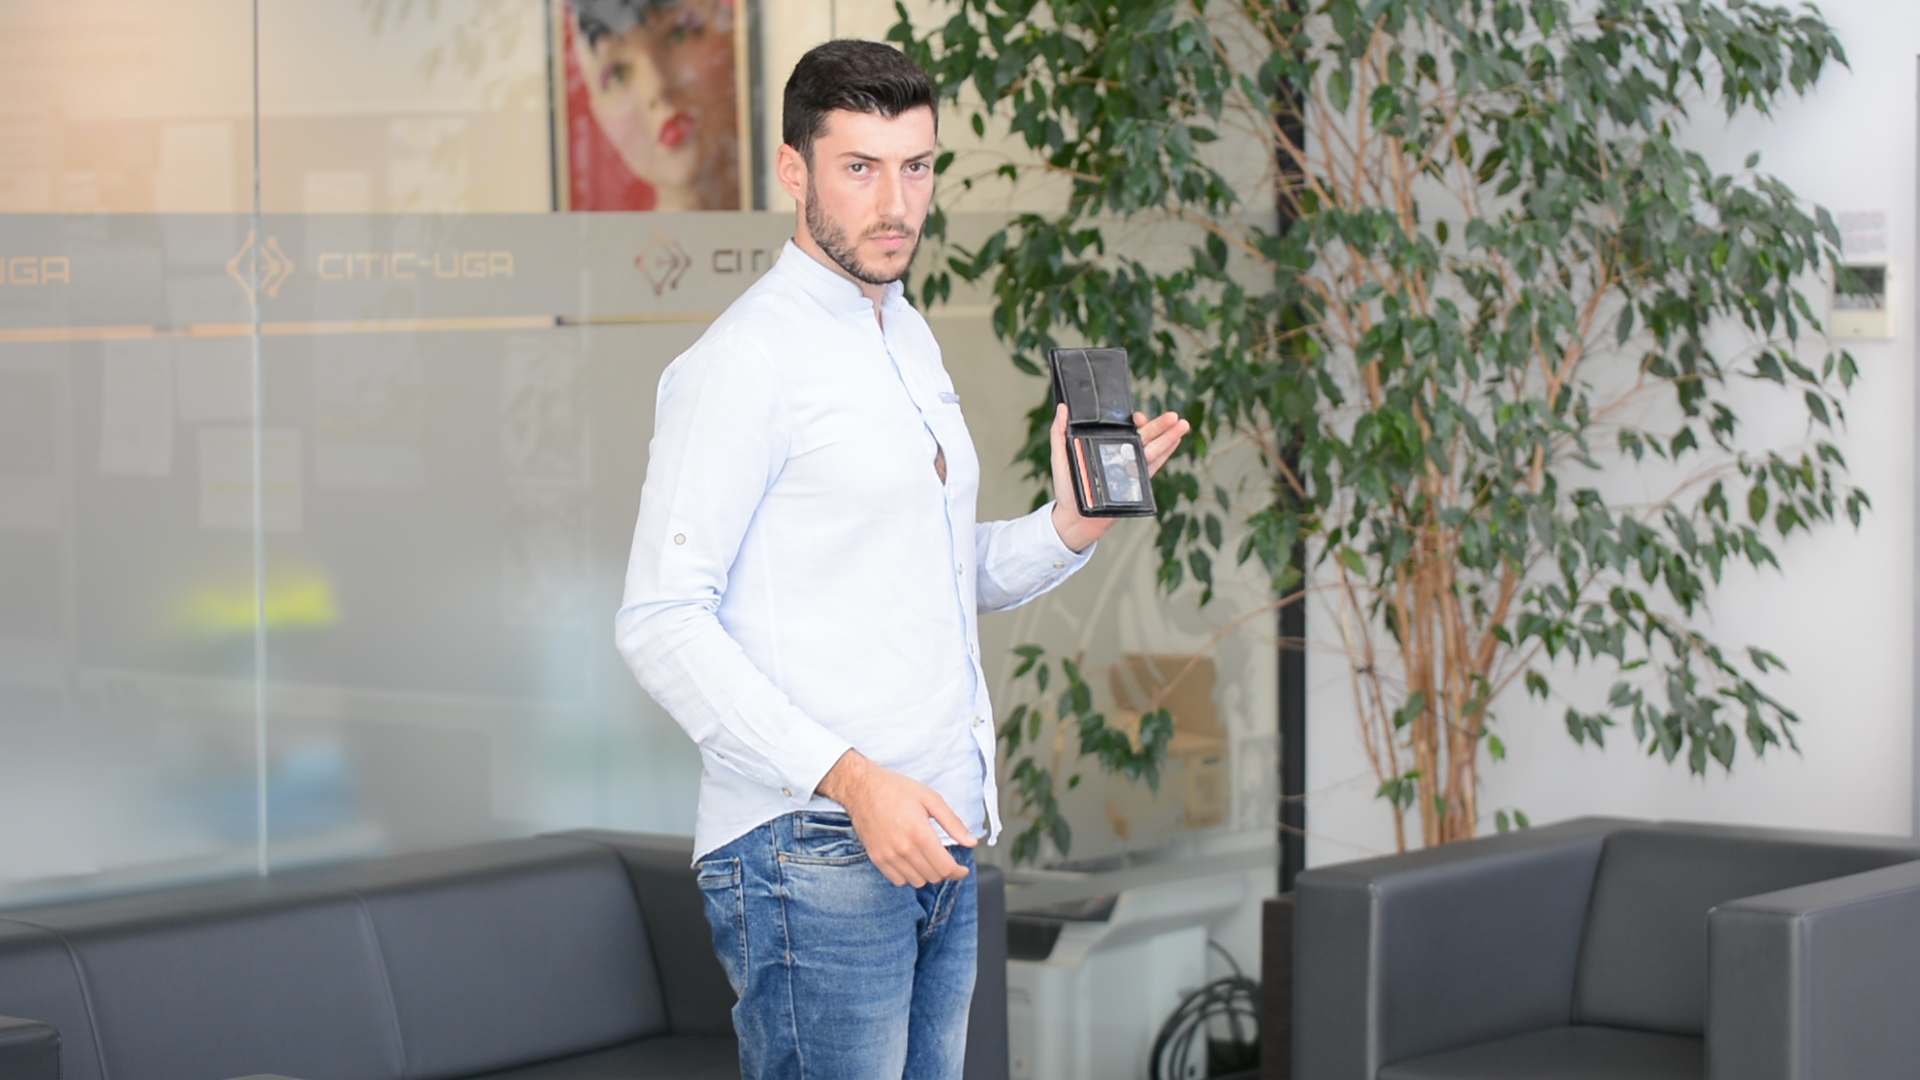monedero: (1051, 344, 1160, 521)
